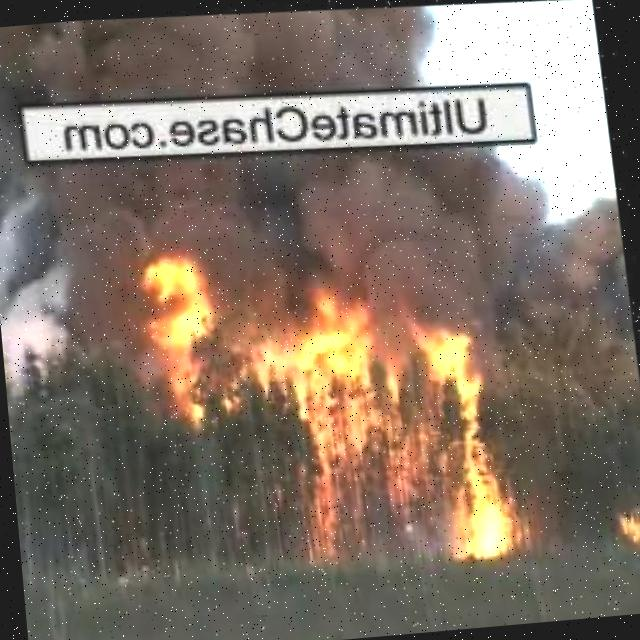fire: (275, 292, 517, 573), (129, 234, 233, 430), (609, 489, 640, 543)
